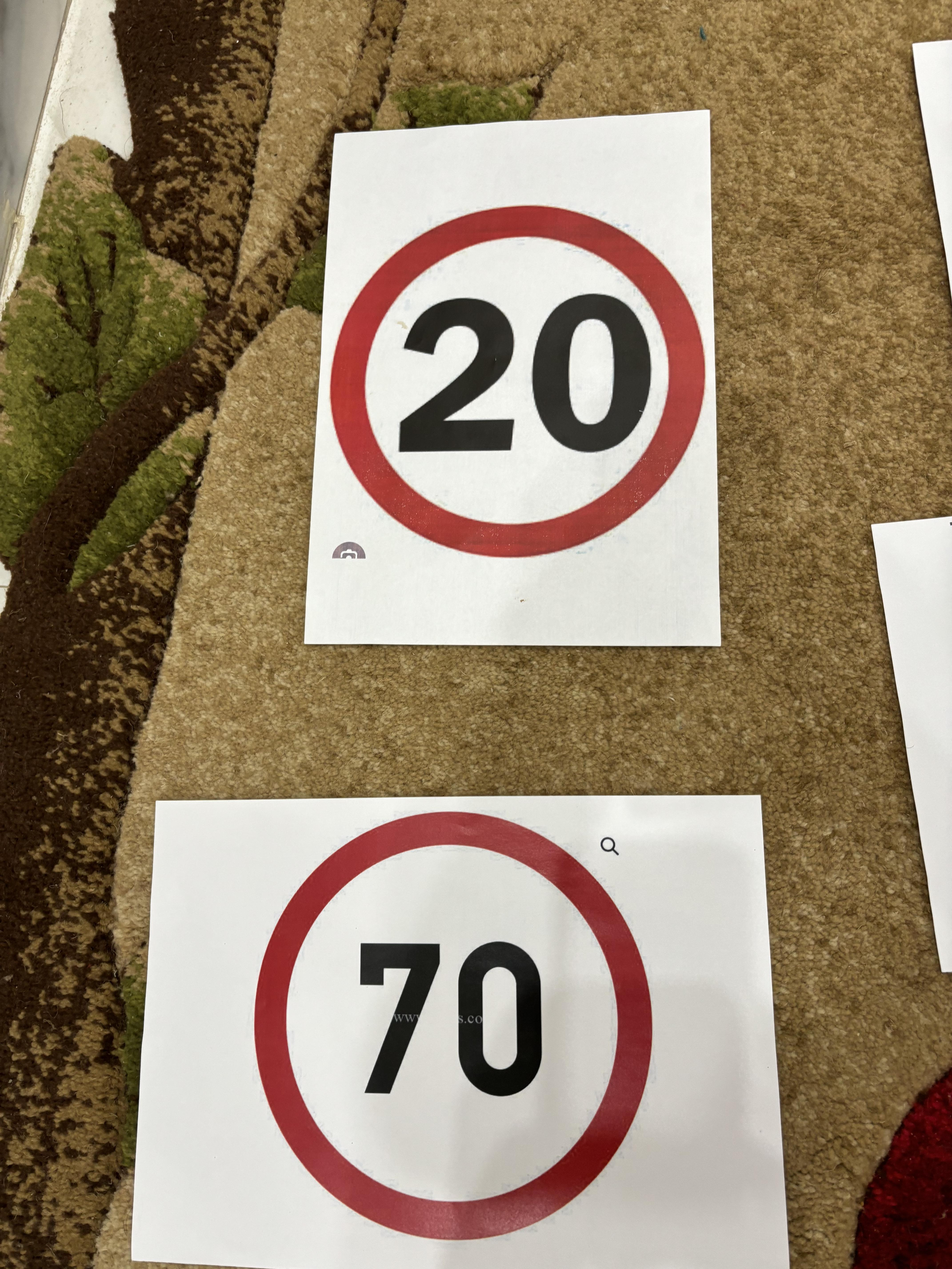20-Speed: (324, 200, 714, 564)
70-Speed: (248, 802, 660, 1247)
